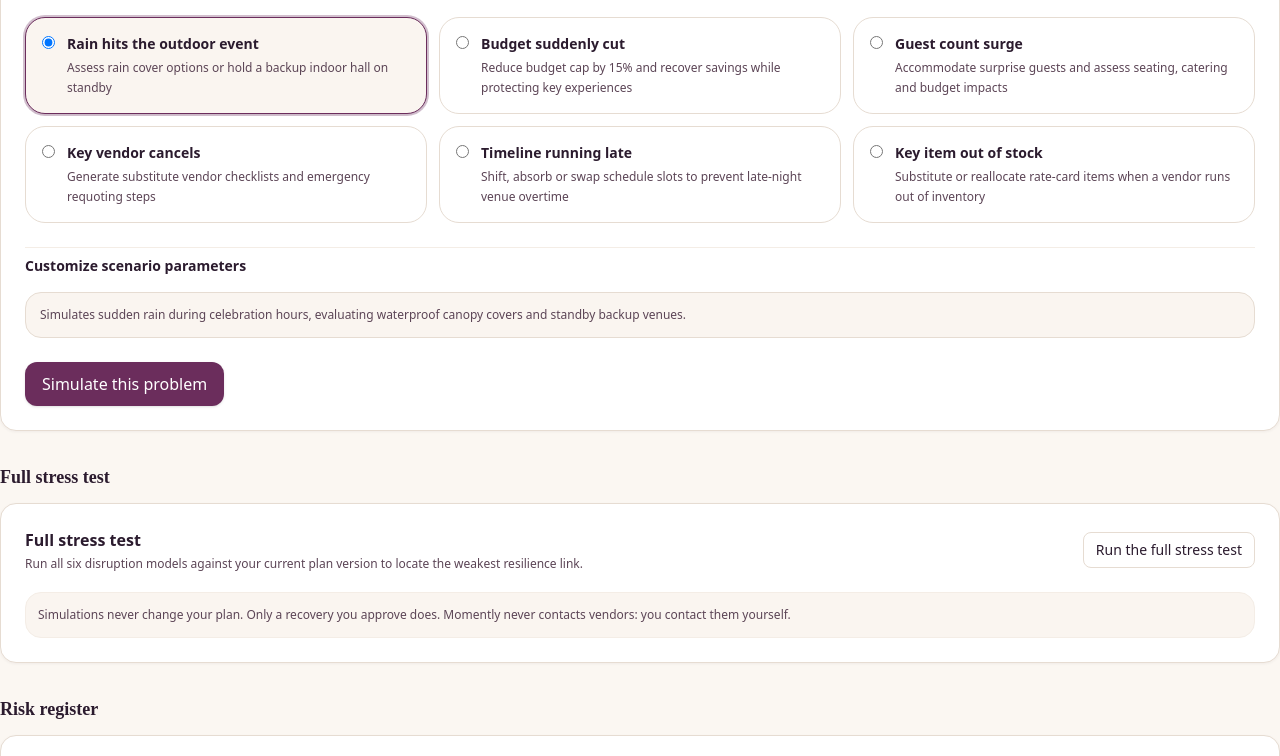
Scenario: UI: Chaos Lab Page & Interaction Flow (TASK 4) › dims result as stale and disables approve buttons if plan version advances after simulation
(page scrolled)
Click the button "Simulate this problem": (125, 384) [25,362,224,406]
(page scrolled)
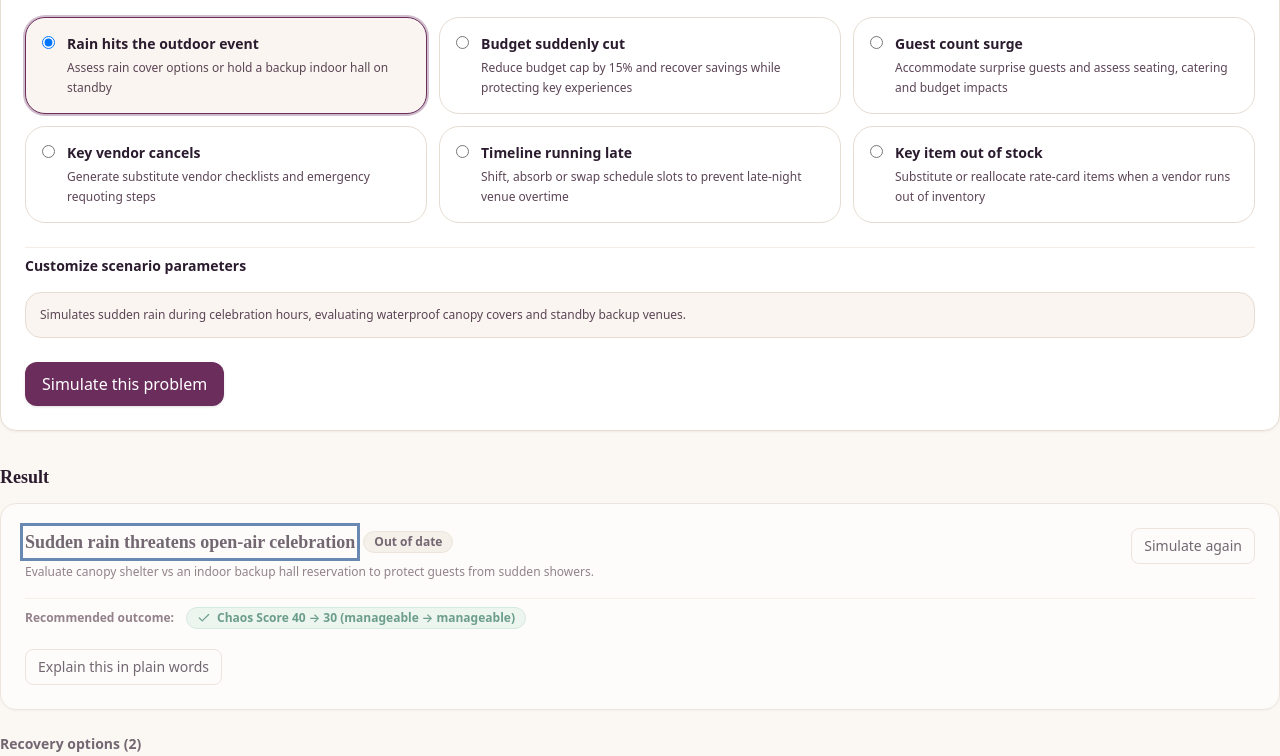
Now the heading "Result" is shown, box [0,467,49,487]
Now the text "Out of date" is shown, box [363,531,454,553]
Now the button "Simulate again" is shown, box [1131,528,1255,564]
